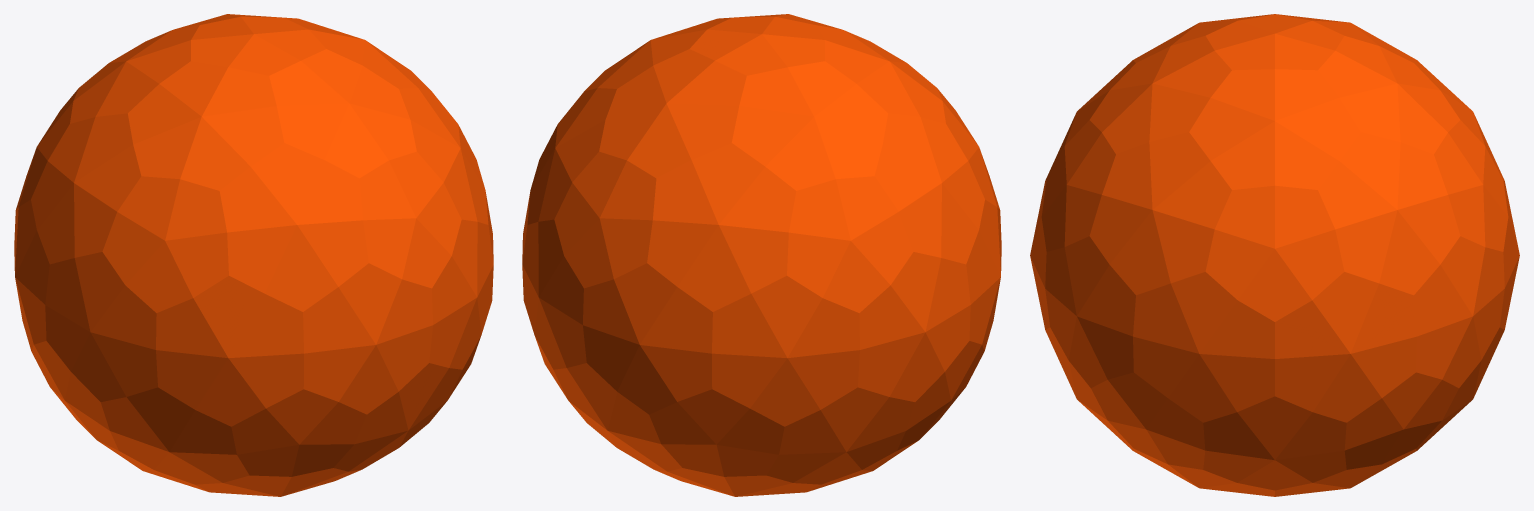
The model's file is Mars3dModel.fbx.
The picture shows the model from 3 angles, left to right: view 1: azimuth 30°, elevation 25°; view 2: azimuth 150°, elevation 25°; view 3: azimuth 270°, elevation 25°; orthographic projection.
Visible parts, largest first — view 1: Icosphere; view 2: Icosphere; view 3: Icosphere.
Boxes of the visible parts, x1=… form: Icosphere: x1=14, y1=14, x2=493, y2=496; Icosphere: x1=522, y1=14, x2=1001, y2=496; Icosphere: x1=1030, y1=14, x2=1519, y2=496.
Size of the model in its own units: 428 by 434 by 434.
